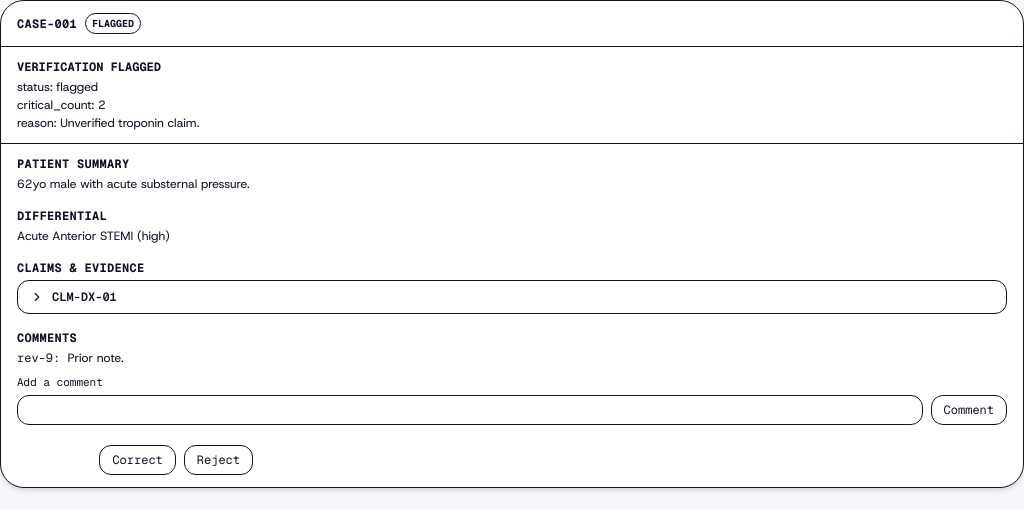
ReportView › ignores shortcuts while typing in a field
The image size is (1024, 509).
Click the field labelled "Add a comment": (470, 410) [17,394,923,424]
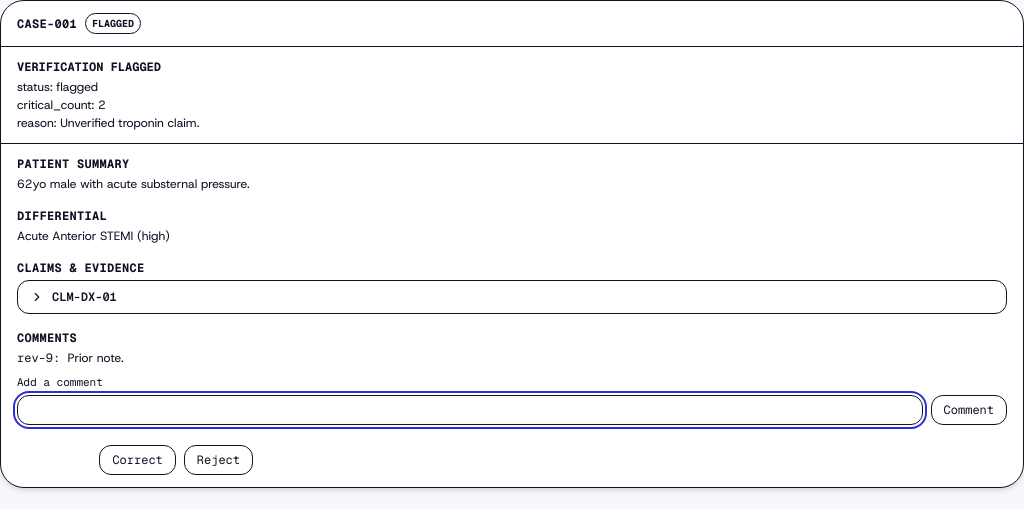
Press A
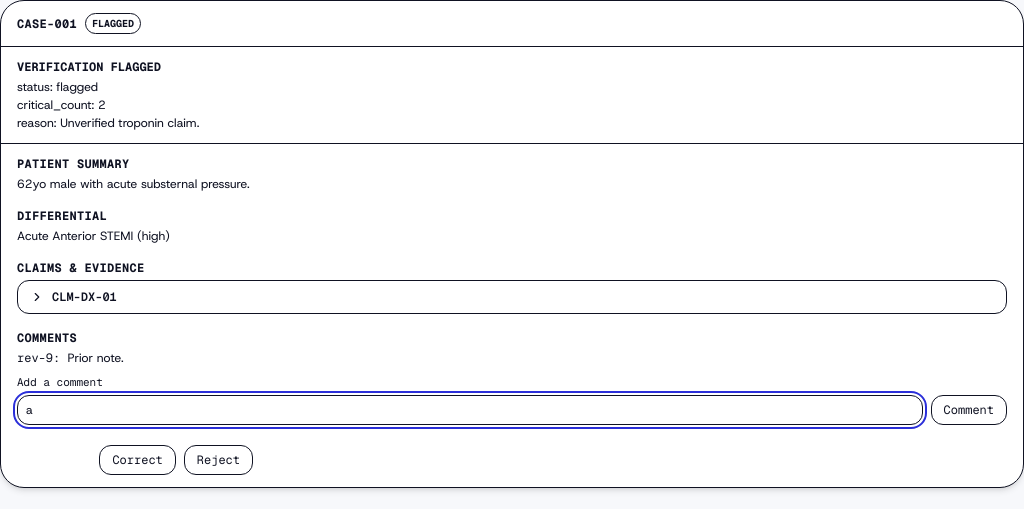
Now the field labelled "Add a comment" holds "a", box [17,394,923,424]
